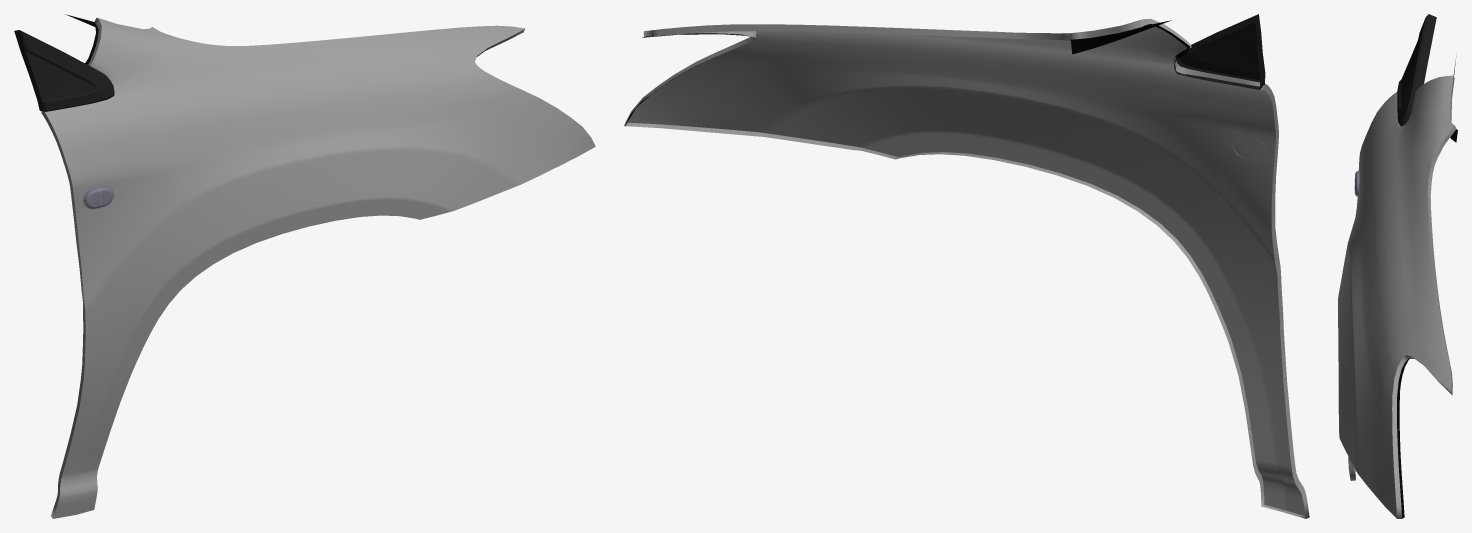
The picture shows the model from 3 angles, left to right: view 1: azimuth 30°, elevation 25°; view 2: azimuth 150°, elevation 25°; view 3: azimuth 270°, elevation 25°; orthographic projection. The views are drawn at different scales.
Parts seen in each view (by area): view 1: LX61_141B_R_2_DaS_LX61_141B_R, LX61_141B_R_LX61_141B_R_3_D, LX61_141B_R_2_DaS_LX61_141B_R_E; view 2: LX61_141B_R_2_DaS_LX61_141B_R, LX61_141B_R_2_DaS_LX61_141B_R_E, LX61_141B_R_LX61_141B_R_3_D, LX61_141B_R_LX61_141B_R_5_D; view 3: LX61_141B_R_2_DaS_LX61_141B_R, LX61_141B_R_2_DaS_LX61_141B_R_E, LX61_141B_R_LX61_141B_R_3_D, LX61_141B_R_LX61_141B_R_5_D.
Part boxes in pixels (left/top/right/bottom): LX61_141B_R_2_DaS_LX61_141B_R: left=45, top=17, right=595, bottom=518; LX61_141B_R_LX61_141B_R_3_D: left=14, top=30, right=114, bottom=111; LX61_141B_R_2_DaS_LX61_141B_R_E: left=41, top=18, right=524, bottom=518; LX61_141B_R_2_DaS_LX61_141B_R: left=627, top=19, right=1305, bottom=516; LX61_141B_R_2_DaS_LX61_141B_R_E: left=624, top=18, right=1309, bottom=518; LX61_141B_R_LX61_141B_R_3_D: left=1174, top=14, right=1265, bottom=89; LX61_141B_R_LX61_141B_R_5_D: left=624, top=20, right=1189, bottom=126; LX61_141B_R_2_DaS_LX61_141B_R: left=1338, top=75, right=1454, bottom=518; LX61_141B_R_2_DaS_LX61_141B_R_E: left=1348, top=76, right=1456, bottom=518; LX61_141B_R_LX61_141B_R_3_D: left=1397, top=14, right=1436, bottom=126; LX61_141B_R_LX61_141B_R_5_D: left=1397, top=54, right=1457, bottom=518.
Size of the model in its own units: 125 by 97.21 by 23.45.
